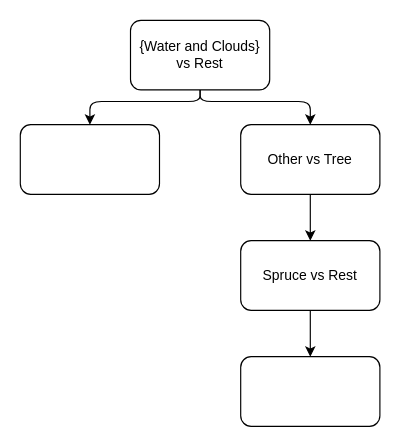
Image size: 400x447. Some labels were removed from this diagram. Each missing label, with the box of its shape:
Pine vs Decidous: (240, 356, 380, 426)
Water vs Clouds: (19, 124, 160, 194)
